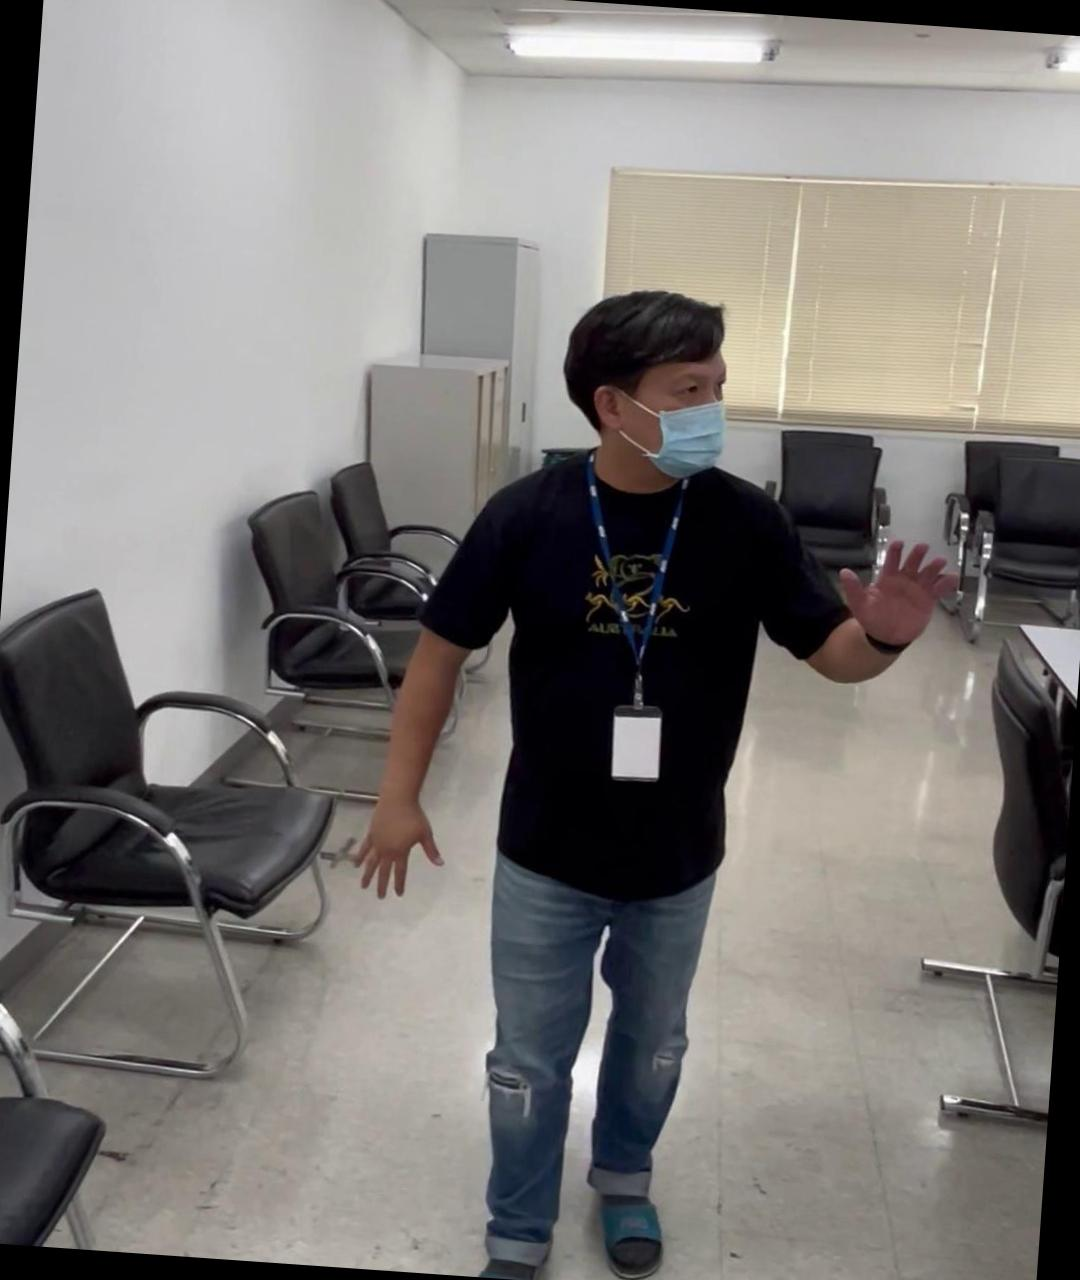No-gloves: (830, 527, 960, 652), (345, 781, 446, 905)
